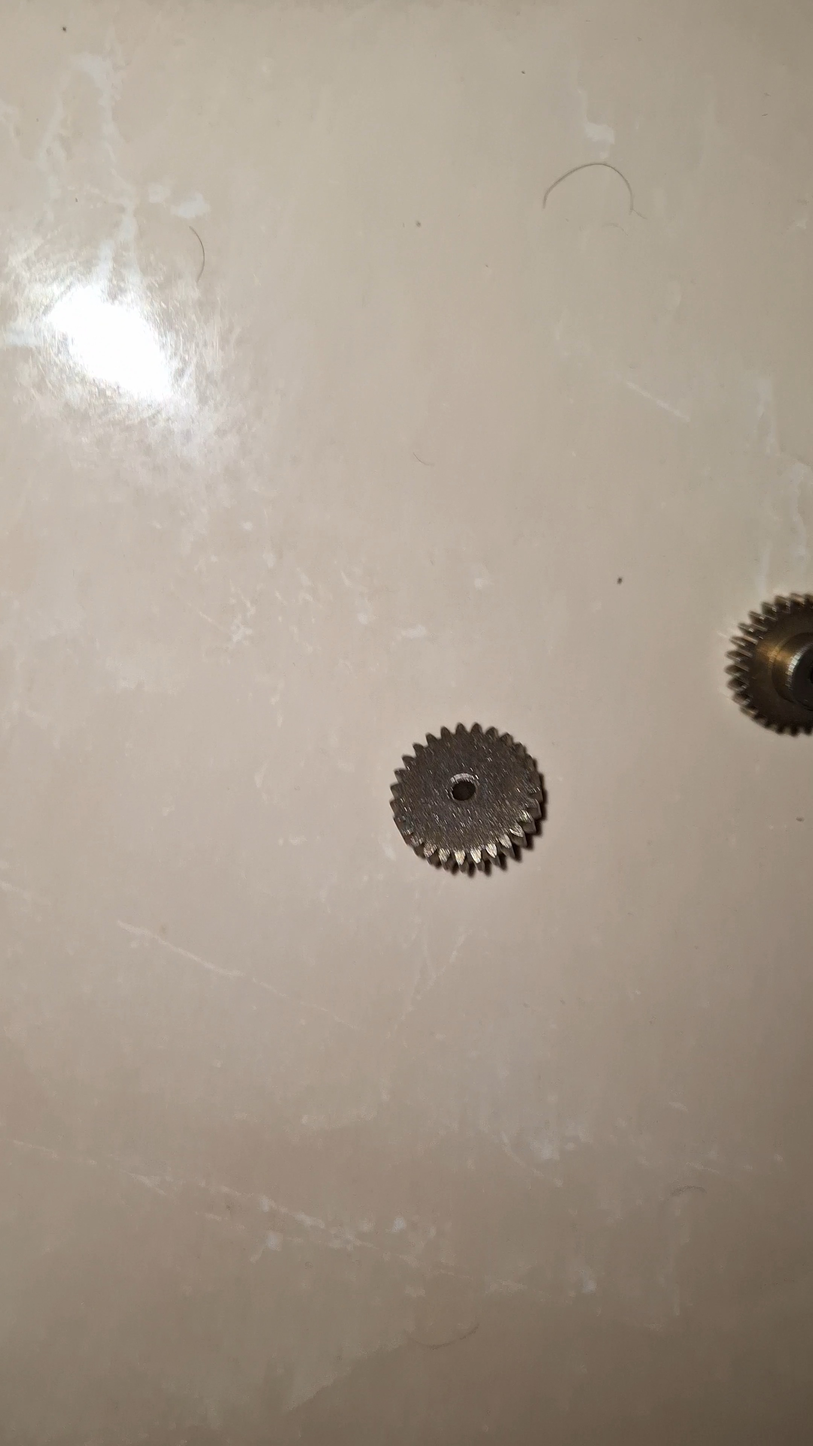spur gear: (391, 723, 544, 869), (728, 594, 813, 734)
